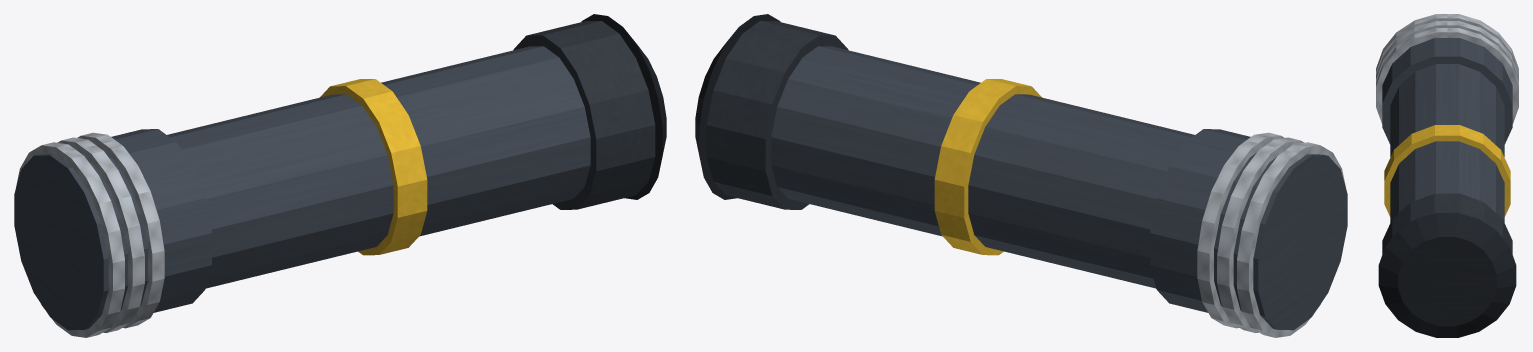
The model's file is barrel_sawed_off_v2.glb.
3 views of the same model, side by side, from view 1: azimuth 30°, elevation 25°; view 2: azimuth 150°, elevation 25°; view 3: azimuth 270°, elevation 25° (orthographic). The views are drawn at different scales.
Parts seen in each view (by area): view 1: barrel_sawed_off_mesh; view 2: barrel_sawed_off_mesh; view 3: barrel_sawed_off_mesh.
Part boxes in pixels (left/top/right/bottom): barrel_sawed_off_mesh: left=14, top=14, right=666, bottom=337; barrel_sawed_off_mesh: left=695, top=14, right=1347, bottom=337; barrel_sawed_off_mesh: left=1376, top=14, right=1518, bottom=337.
Bounding box in the file's own units: 0.1165 × 0.0344 × 0.0344.
6 materials, 6 textured.
